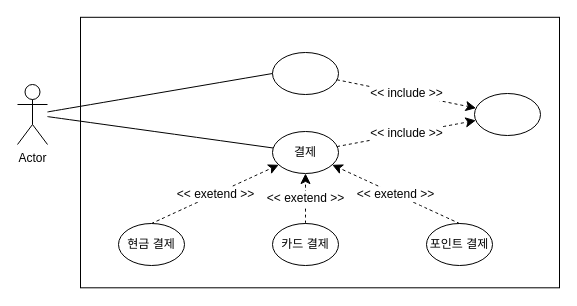
Image size: 577x306. Some labels were removed from this diagram. The centre of each missing label's shape, as x and y in pixels:
"로그인" belongs at [507,114].
"주문" belongs at [305,73].
